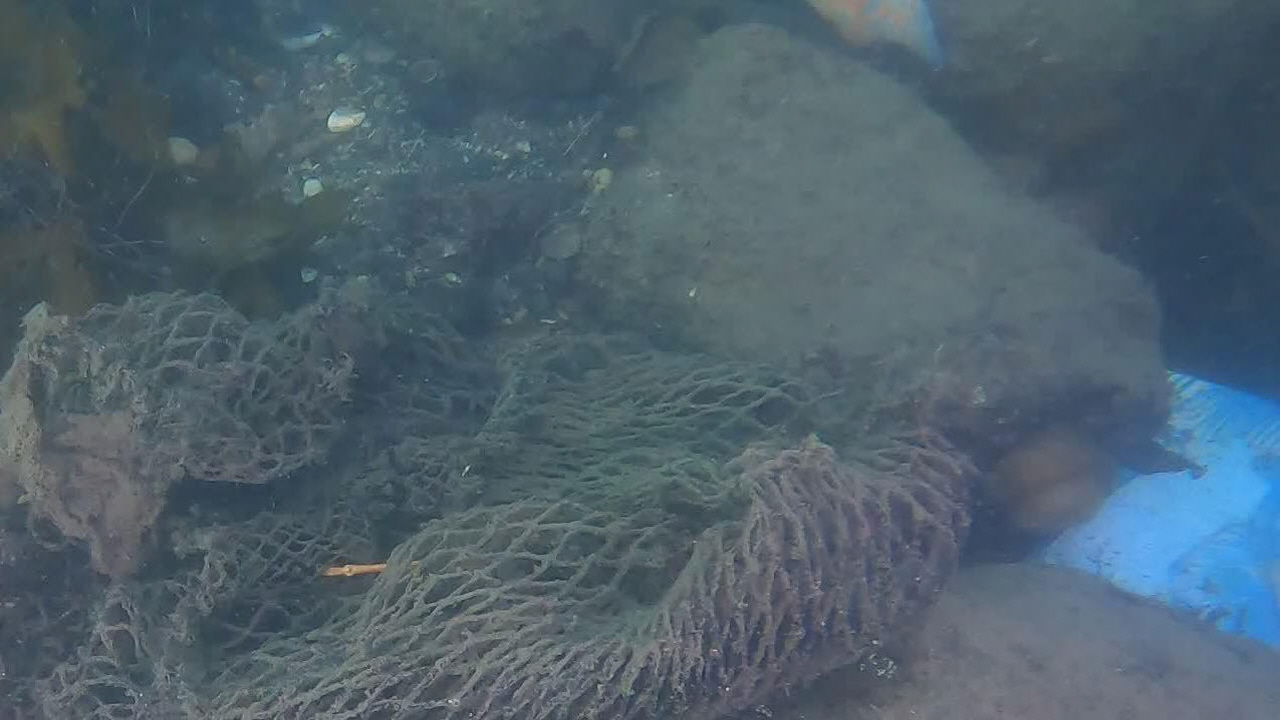fish net: (0, 289, 975, 720)
